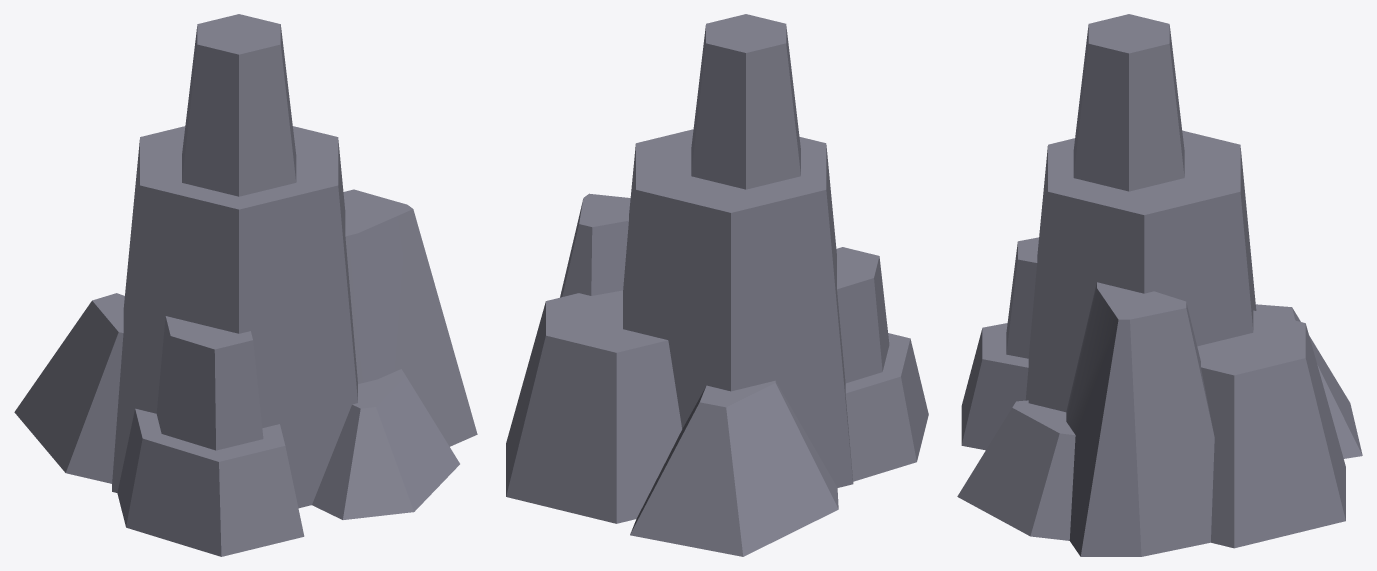
The model's file is rock_7.fbx.
3 views of the same model, side by side, from view 1: azimuth 30°, elevation 25°; view 2: azimuth 150°, elevation 25°; view 3: azimuth 270°, elevation 25° (orthographic). The views are drawn at different scales.
Parts seen in each view (by area): view 1: rock_7; view 2: rock_7; view 3: rock_7.
Part boxes in pixels (box(x1,y1,x2,y2)): rock_7: box(14, 14, 477, 556); rock_7: box(506, 14, 928, 556); rock_7: box(957, 14, 1362, 556).
Bounding box in the file's own units: 0.7648 × 0.8838 × 0.77.
Materials: 1 (1 with a texture image).
